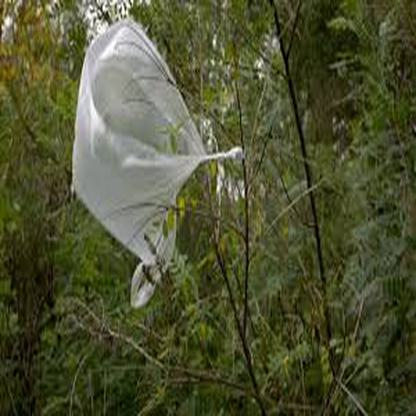plastic bag: (71, 19, 241, 308)
